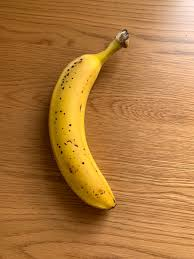banana: (18, 37, 190, 209)
